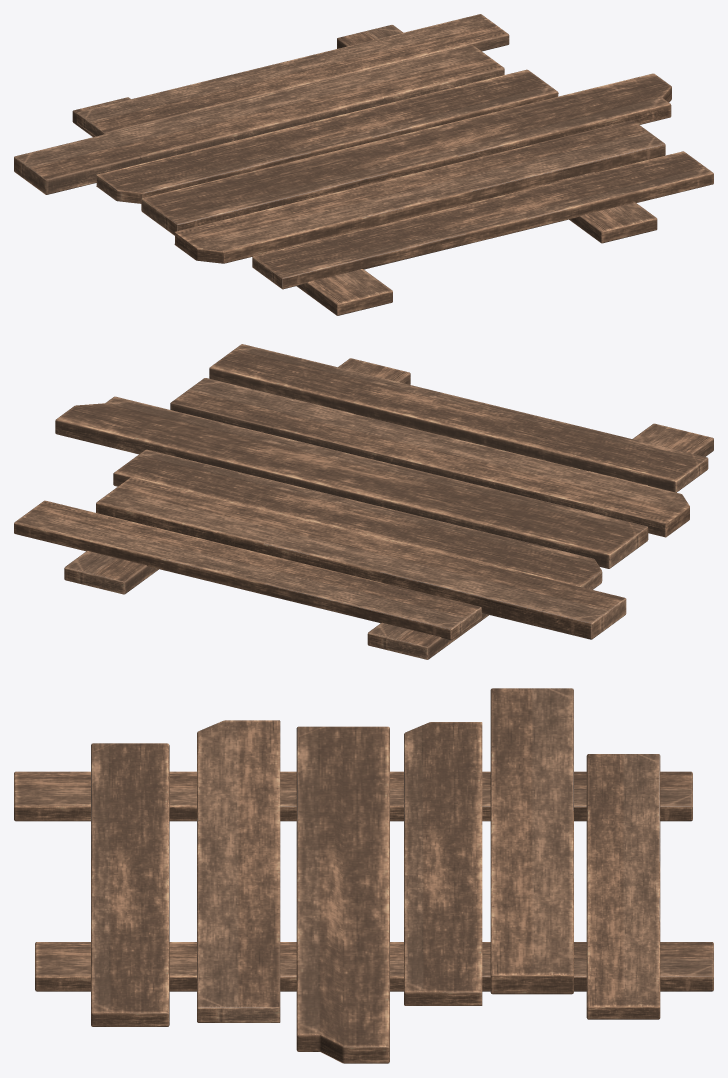
The model's file is SM_Wooden_Planks_01.fbx.
3 renders of one model, top to bottom at view 1: azimuth 30°, elevation 25°; view 2: azimuth 150°, elevation 25°; view 3: azimuth 270°, elevation 25°, orthographic. The views are drawn at different scales.
Parts seen in each view (by area): view 1: SM_Wooden_Planks_01_LOD0; view 2: SM_Wooden_Planks_01_LOD0; view 3: SM_Wooden_Planks_01_LOD0.
Boxes of the visible parts, bbox=[...] form: SM_Wooden_Planks_01_LOD0: bbox=[14, 14, 713, 315]; SM_Wooden_Planks_01_LOD0: bbox=[14, 344, 713, 659]; SM_Wooden_Planks_01_LOD0: bbox=[14, 688, 713, 1063].
Bounding box in the file's own units: 434 × 361 × 19.14.
1 material, 1 textured.
